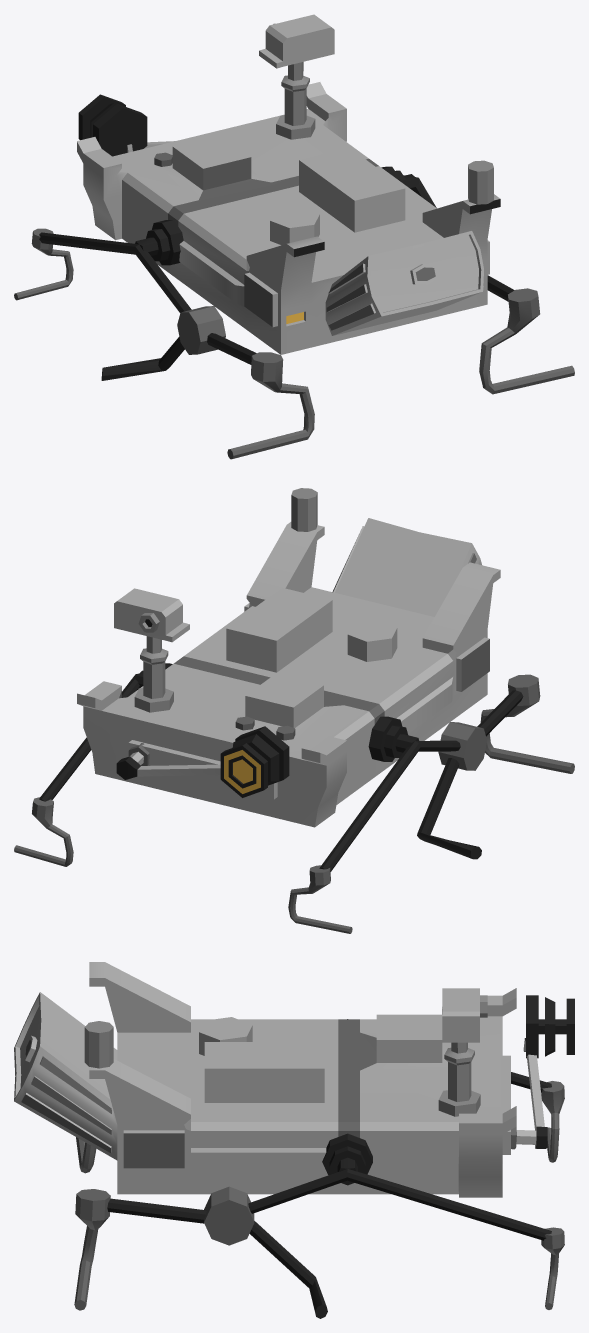
File: mars_rover_body.glb
3 views of the same model, one above another, from view 1: azimuth 30°, elevation 25°; view 2: azimuth 150°, elevation 25°; view 3: azimuth 270°, elevation 25° (orthographic). The views are drawn at different scales.
Visible parts, largest first — view 1: rover; view 2: rover; view 3: rover.
Boxes of the visible parts, left/top/right/bottom form: rover: left=14, top=14, right=574, bottom=459; rover: left=14, top=488, right=574, bottom=933; rover: left=14, top=962, right=574, bottom=1318.
Bounding box in the file's own units: 3.67 × 2.27 × 4.38.
Materials: 1 (1 with a texture image).
